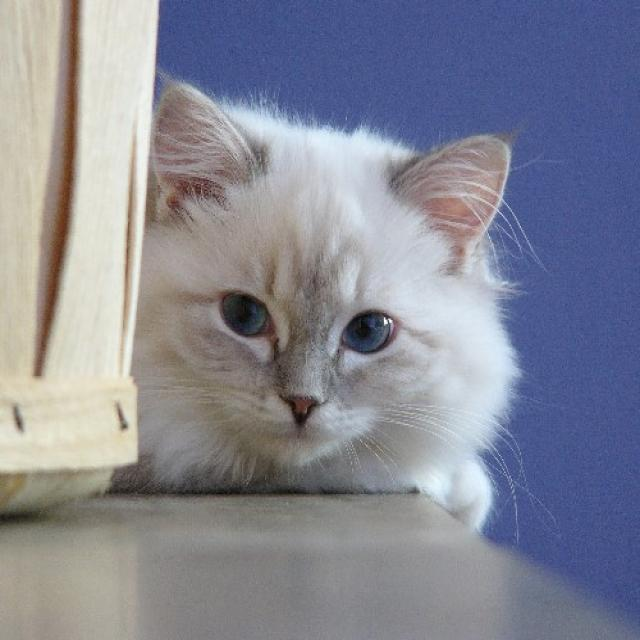Ragdoll: (148, 81, 528, 476)
